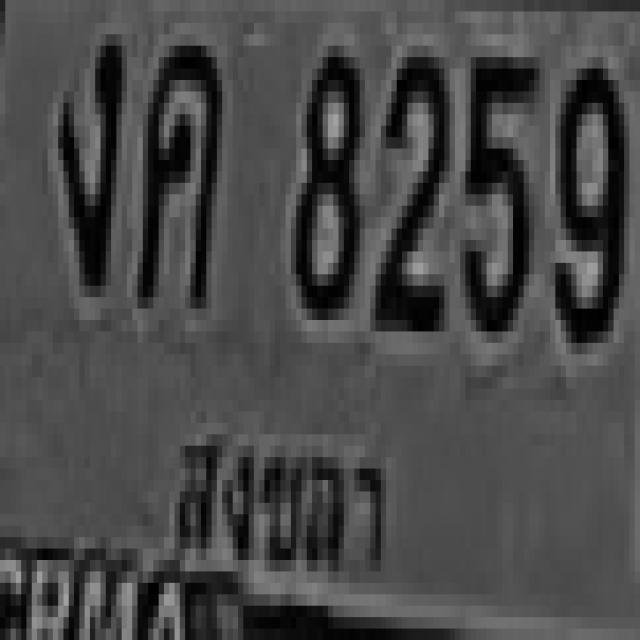13KhorKhwai: (135, 34, 219, 297)
16NgorNgu: (56, 23, 119, 286)
2: (370, 46, 444, 320)
5: (460, 46, 534, 331)
8: (291, 34, 360, 309)
9: (550, 57, 619, 332)
Songkhla: (164, 405, 403, 593)
